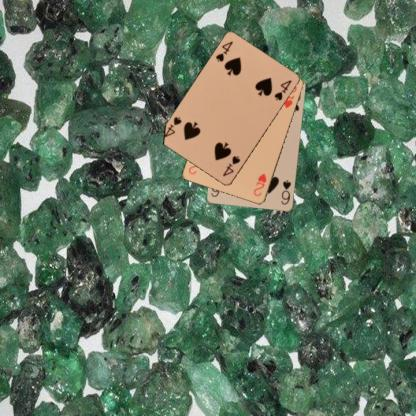2h: (251, 171, 268, 198)
4s: (220, 154, 242, 178), (213, 38, 234, 63)
6s: (278, 177, 292, 206)
